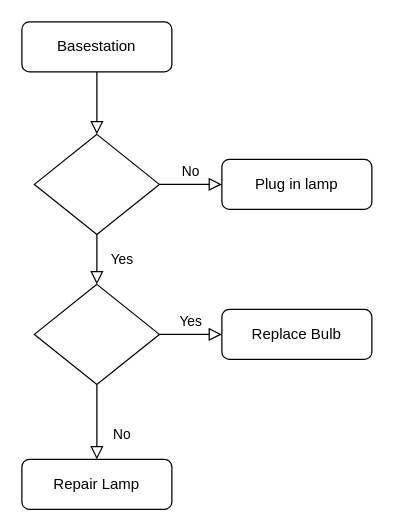
Some shapes in this 394 by 531 pixel diagram are drawn without their labels. Here are the shapes that lost their labels. From the top down, the centre of each, then its label:
point (96, 183): Lamp plugged in?
point (96, 333): Bulb burned out?
